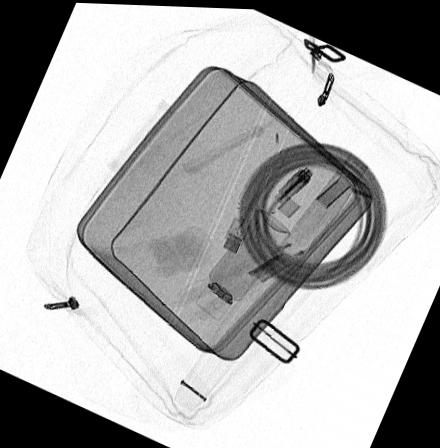Sprayer: (195, 207, 290, 318)
